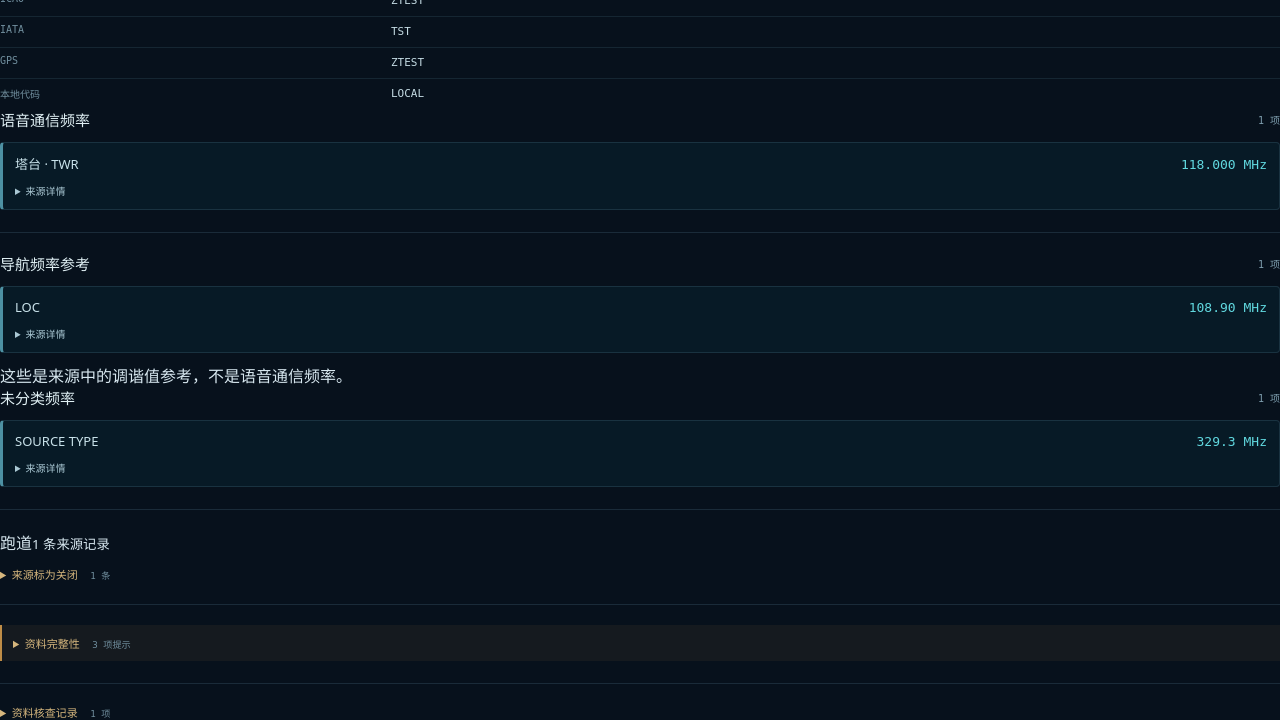
Scenario: public airport details › keeps unsafe website and evidence values out of external links
(page scrolled)
What coordinates should you click on to do the following:
click the heading "资料核查记录 1 项"
I would click on:
 (61, 713)
Its box is [12, 707, 110, 719].
(page scrolled)
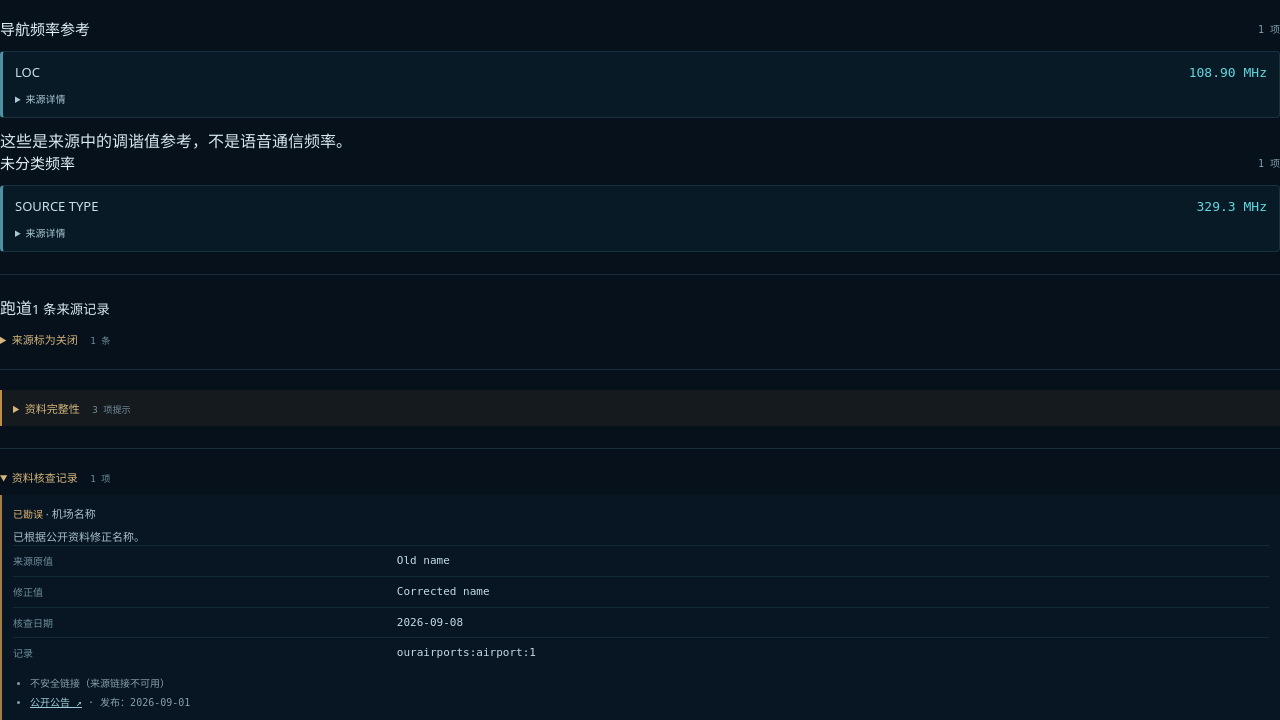
Expected: the text "不安全链接（来源链接不可用）" is shown, [30, 678, 170, 689]
